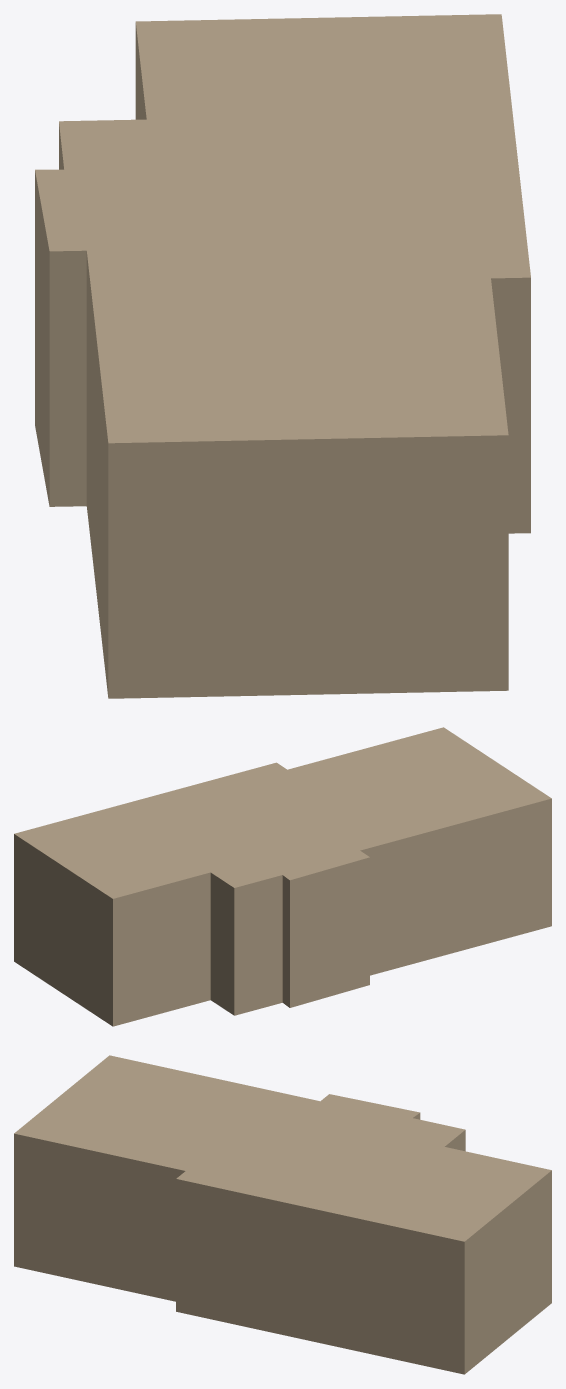
Rendered from bld_101374815.dae.
3 views of the same model, one above another, from view 1: azimuth 30°, elevation 25°; view 2: azimuth 150°, elevation 25°; view 3: azimuth 270°, elevation 25° (orthographic). The views are drawn at different scales.
Parts seen in each view (by area): view 1: bld_101374815; view 2: bld_101374815; view 3: bld_101374815.
Boxes of the visible parts, bbox=[...] form: bld_101374815: bbox=[35, 14, 530, 698]; bld_101374815: bbox=[14, 727, 551, 1026]; bld_101374815: bbox=[14, 1055, 551, 1374].
Size of the model in its own units: 24.07 by 29.35 by 8.
